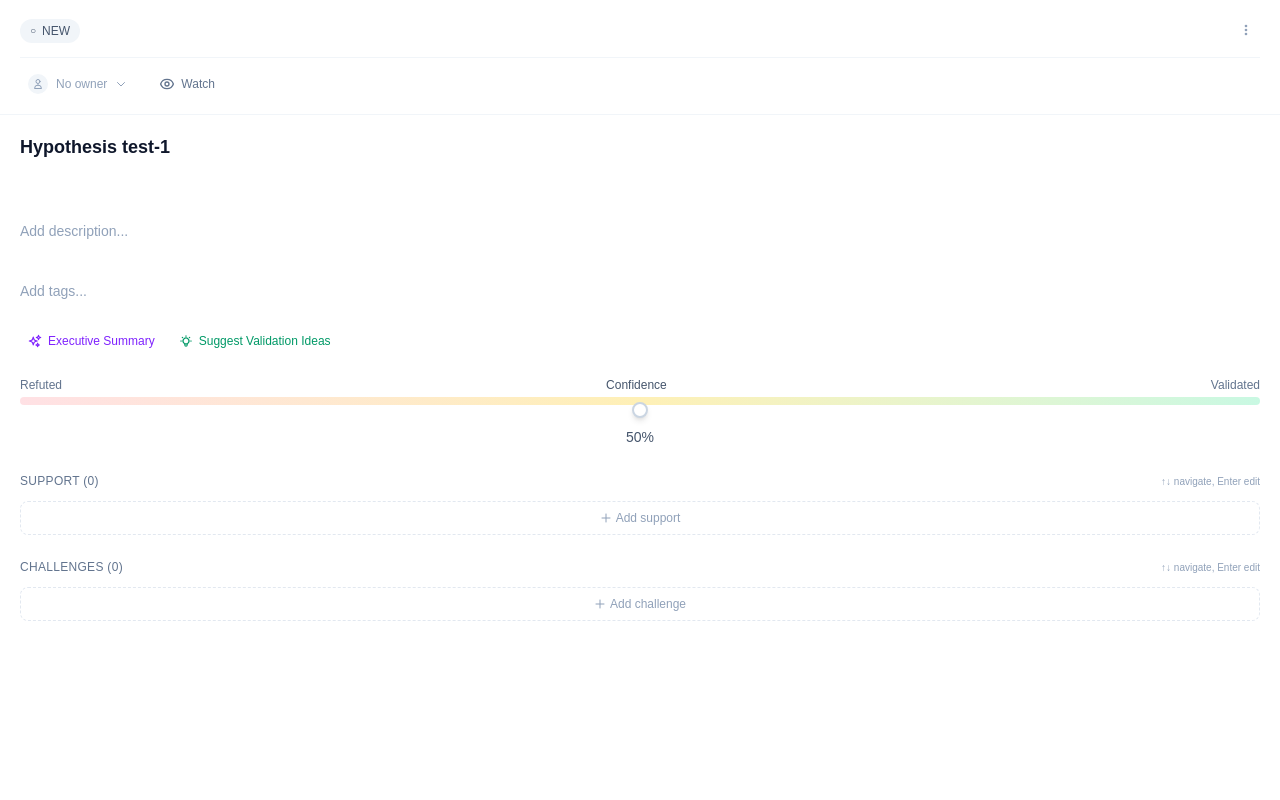
it: DetailPane › Computed Status Display › updates status in real-time as confidence changes
Expected: the text "NEW" is shown, [42,24,70,38]
Set the slider to "85" at (1068, 410), box [20,406,1260,414]
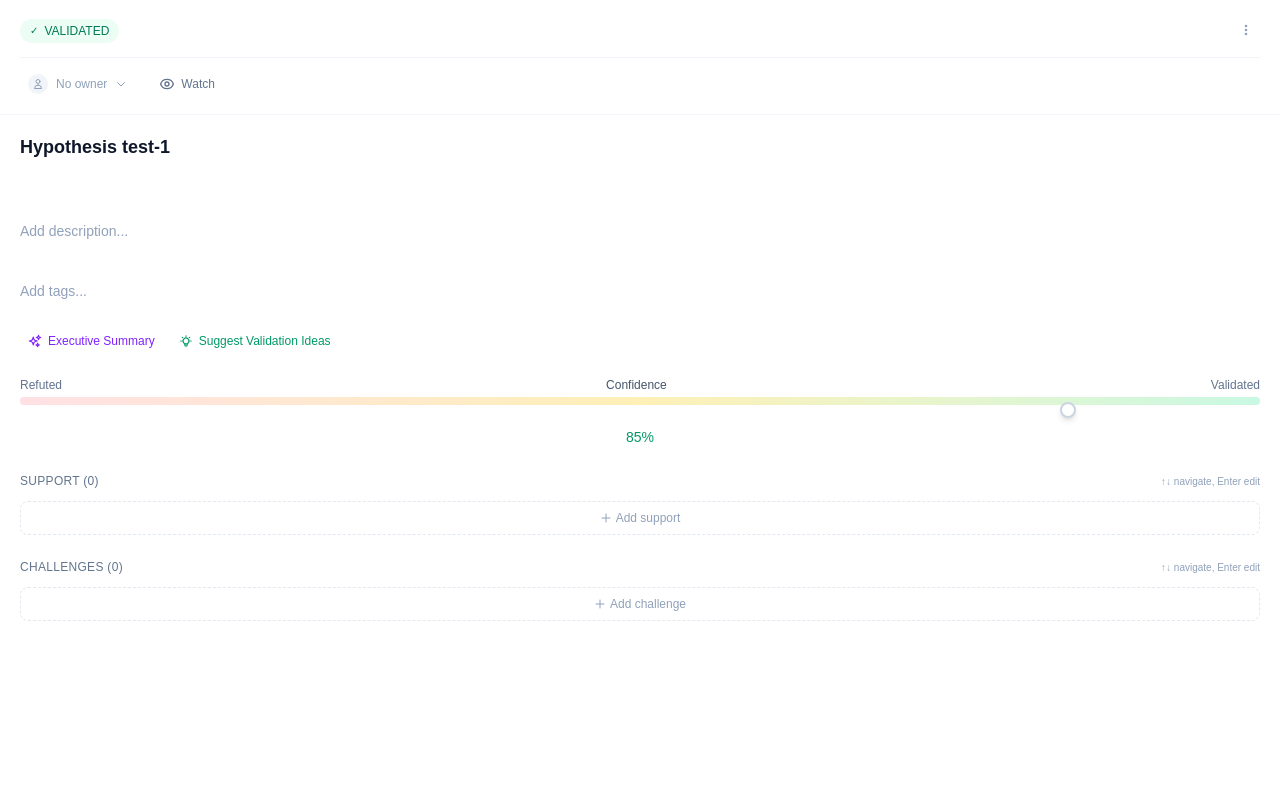
Expected: the text "VALIDATED" is shown, [44,24,109,38]
